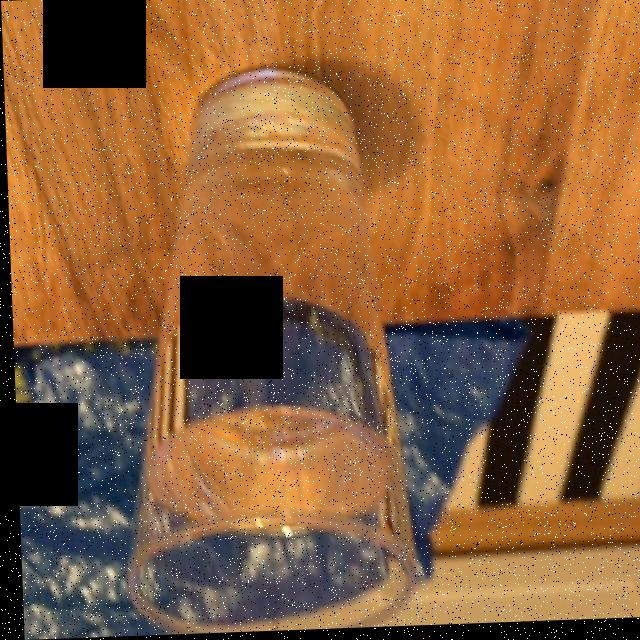water: (137, 98, 396, 524)
